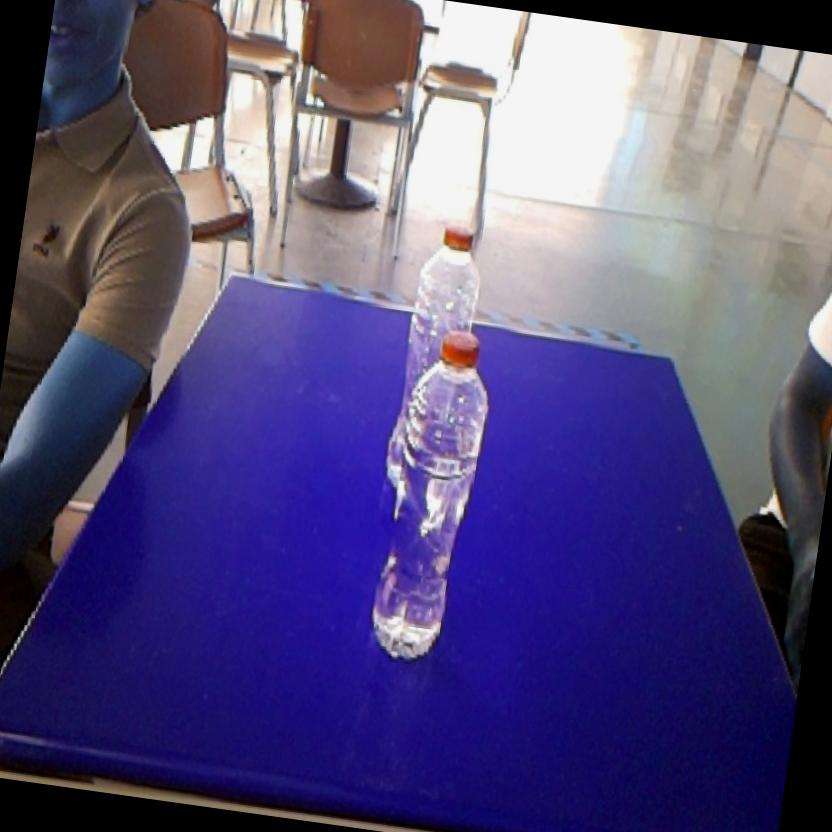no_label: (352, 316, 510, 680), (404, 206, 500, 332)
